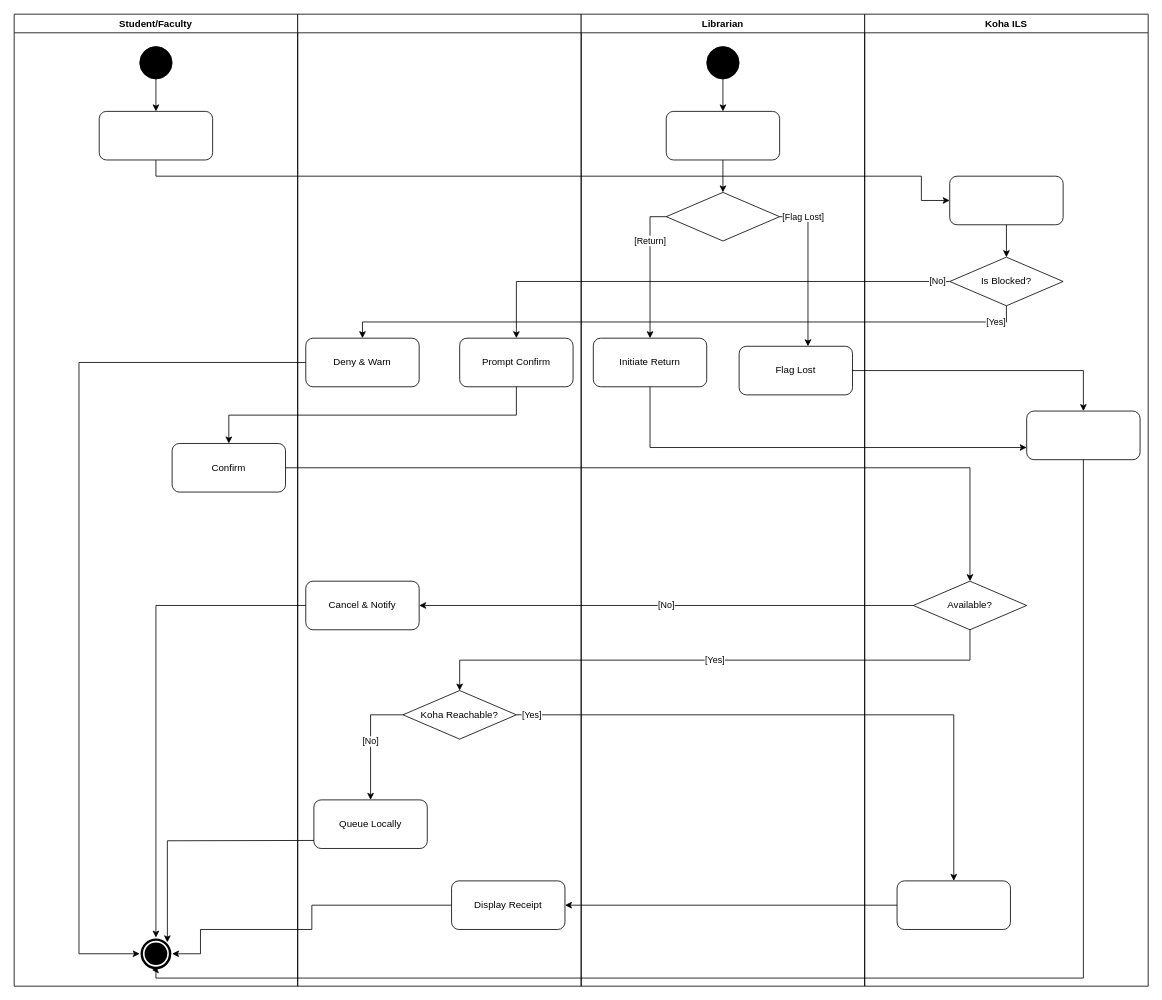
Image size: 1162x1000. Some labels were removed from this diagram. The box of each missing label's shape, as (x1, y1, x2, y2) in pixels:
Action Type?: (665, 192, 780, 241)
Execute Log: (896, 880, 1010, 929)
LIRA System: (297, 13, 581, 986)
Login Koha: (665, 111, 780, 160)
Status Update: (1026, 410, 1140, 460)
Submit Borrow Request: (98, 111, 213, 160)
Verify Limits: (949, 175, 1063, 225)
